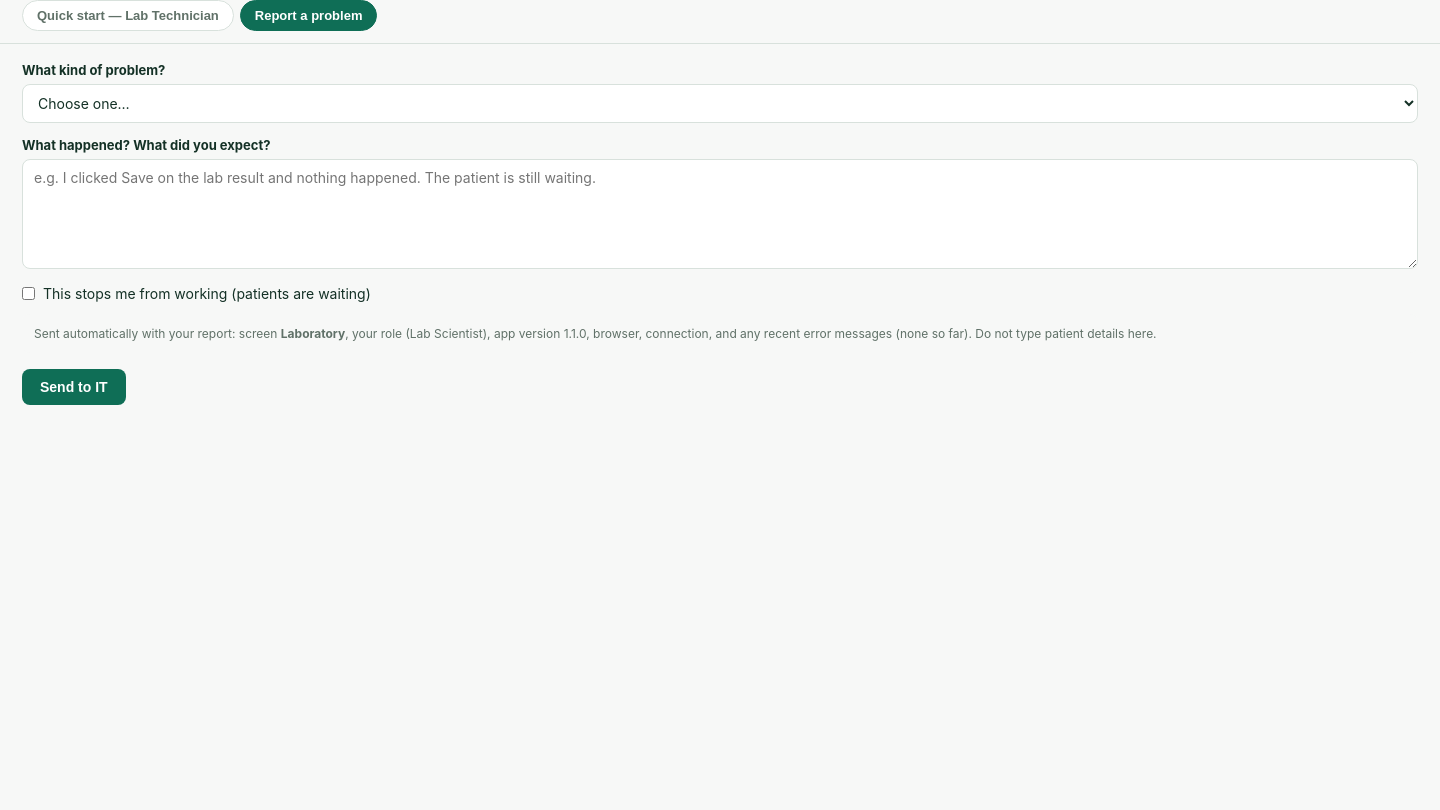
Test: report a problem › sends the report and shows a reference
This screenshot has width=1440, height=810.
Select "The system is slow or freezes" in the dropdown labelled "What kind of problem?". click: (720, 104)
box: [22, 84, 1418, 123]
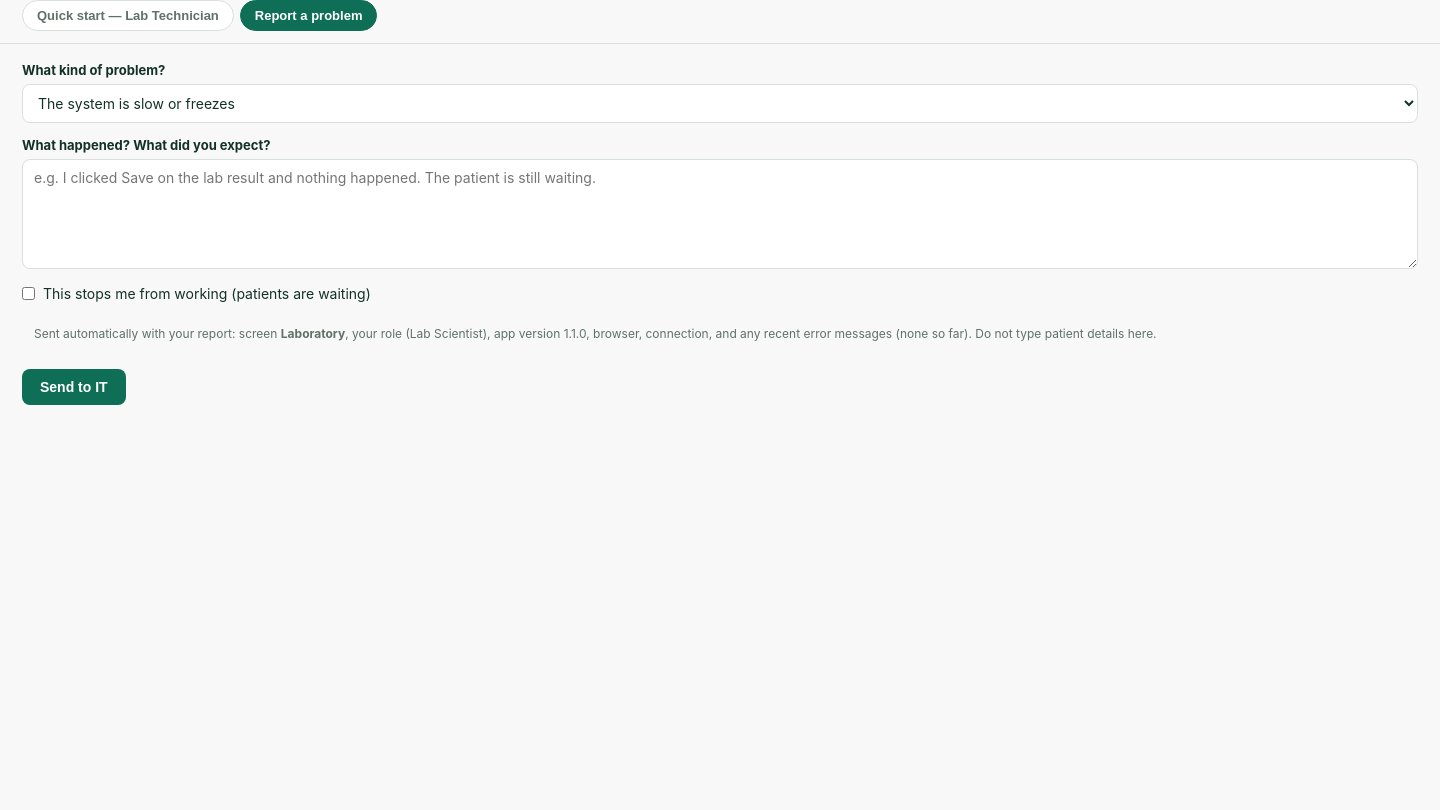
Replace the text in the text box labelled "What happened? What did you expect?" with "Results page takes a minute to open". click: (720, 214)
box: [22, 159, 1418, 269]
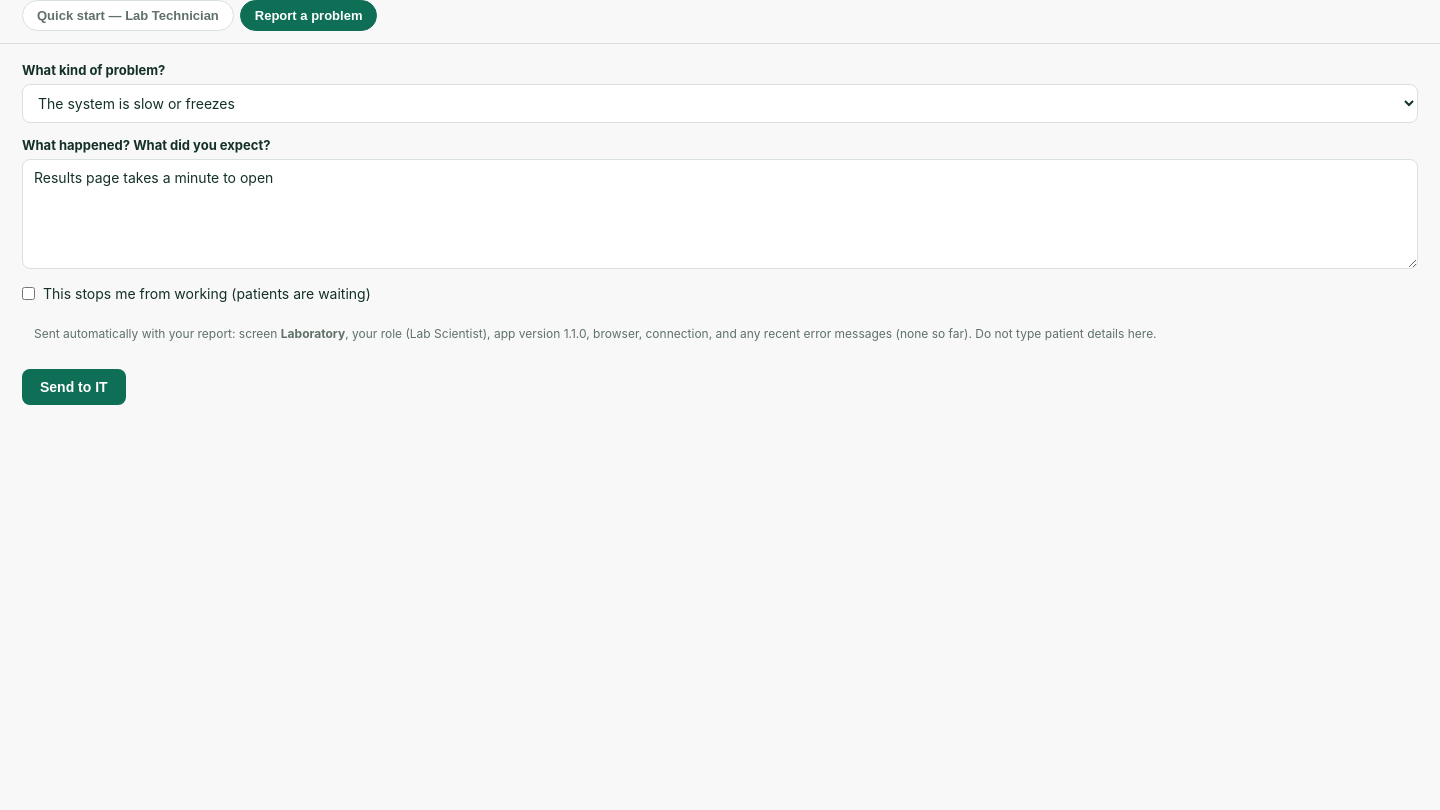
Click the button "Send to IT". click: (74, 387)
box: [22, 369, 126, 405]
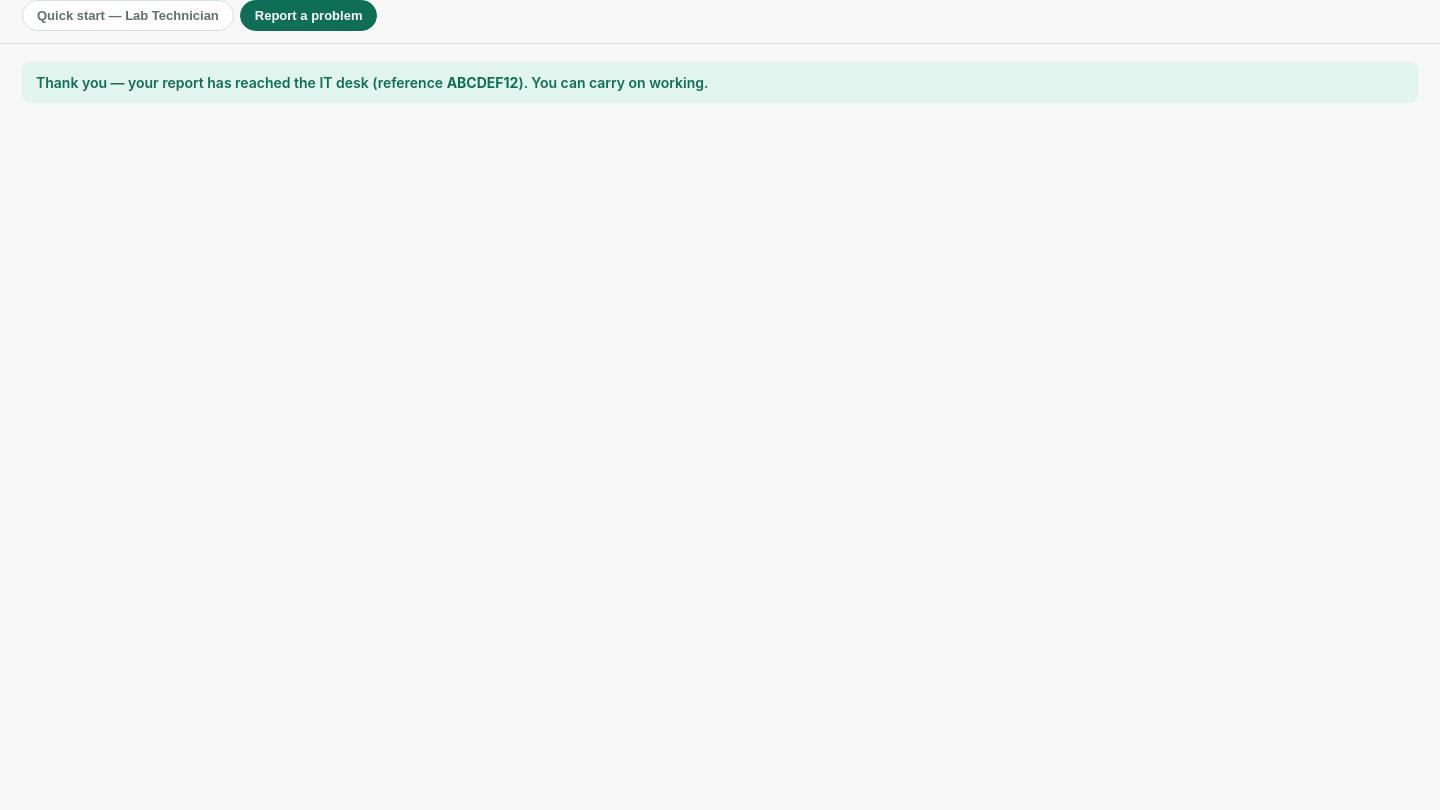
Result: the message shows "ABCDEF12" at [447, 74, 518, 91]
